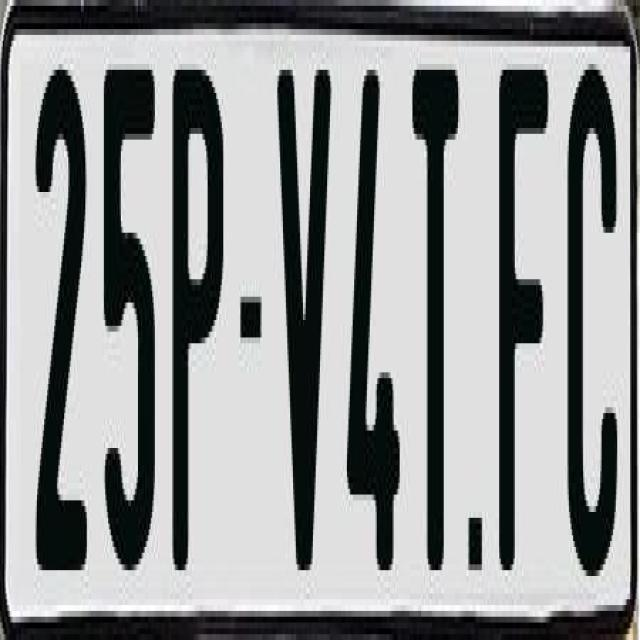2: (34, 52, 94, 570)
4: (344, 58, 400, 594)
5: (102, 52, 158, 588)
C: (564, 58, 616, 588)
F: (500, 70, 548, 600)
P: (171, 70, 222, 576)
T: (410, 52, 460, 570)
V: (273, 52, 334, 558)
